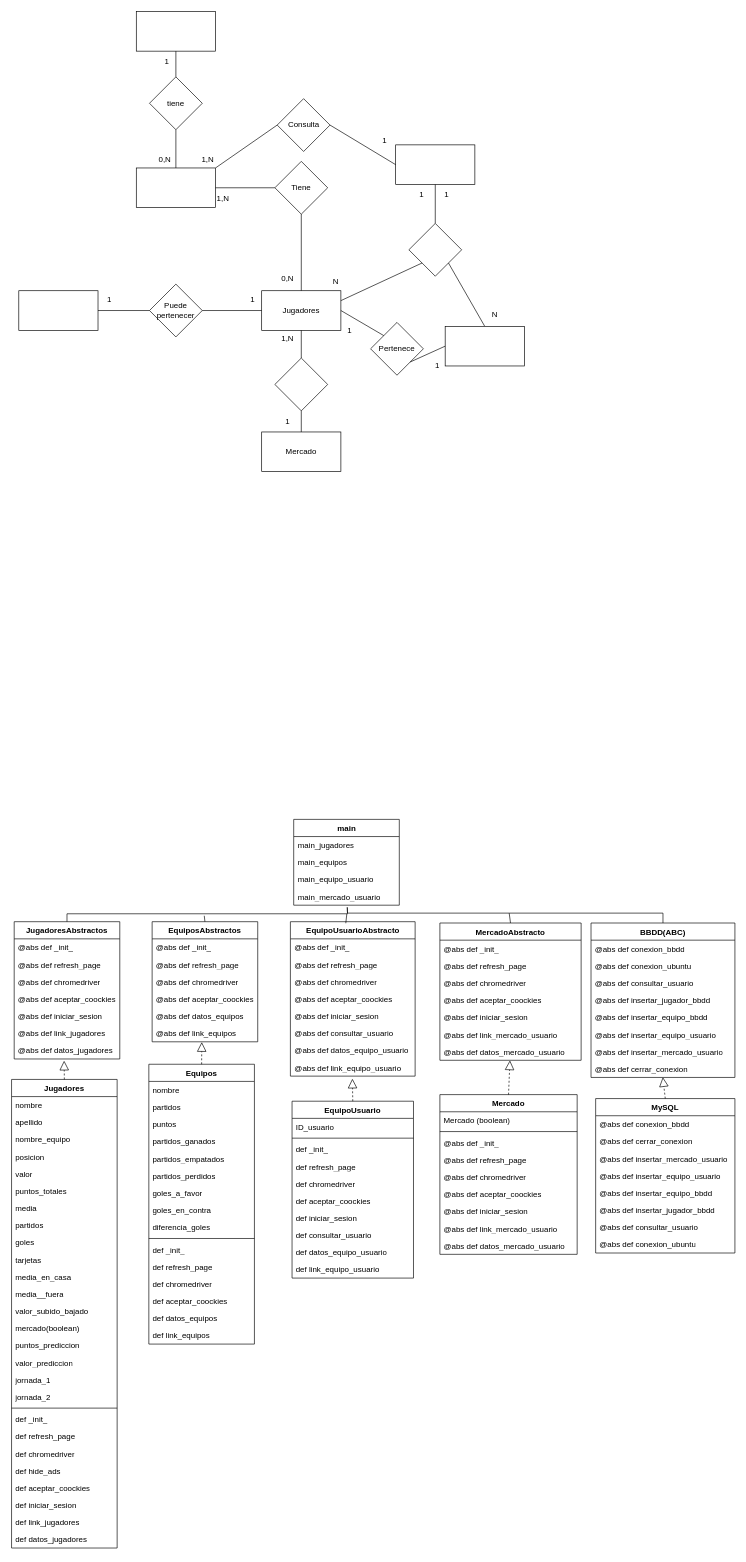
This 746x1562 diagram has some shape labels left out. Each missing label, with the centre of its shape:
APP: pixel 175 31
BBDD: pixel 435 164
Contiene: pixel 435 249
Equipo: pixel 484 346
Equipo_Usuario: pixel 58 310
Puede estar: pixel 301 384
Usuario: pixel 175 187
